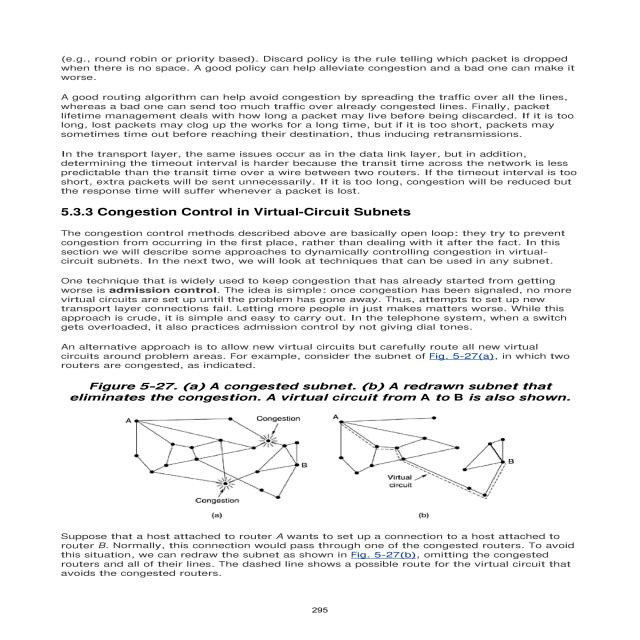diagram: (67, 382, 640, 520)
